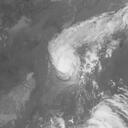cyclone: (47, 37, 81, 81)
